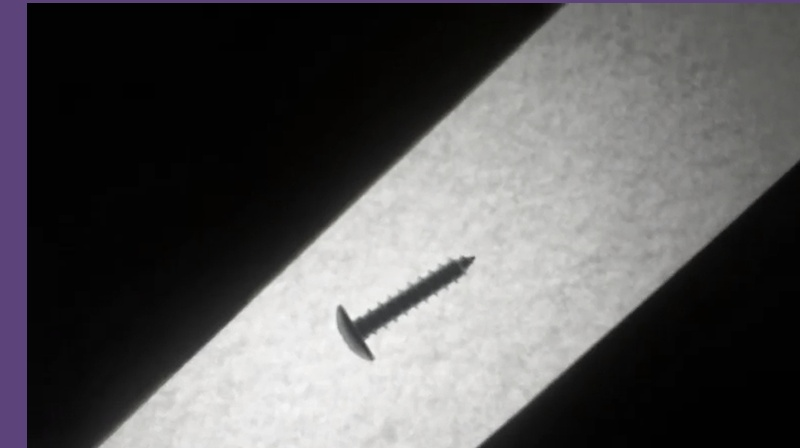S003: (328, 253, 479, 362)
